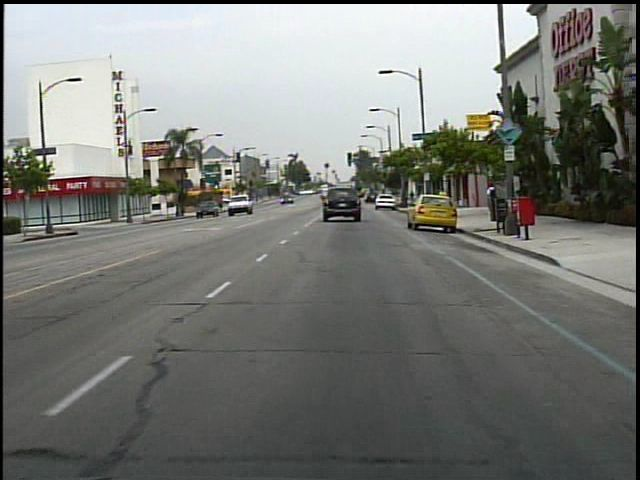person: (479, 180, 501, 219)
